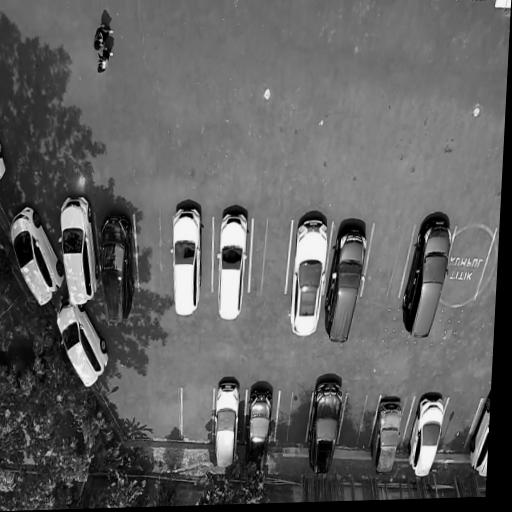Car: (393, 210, 460, 346), (1, 195, 67, 316), (50, 294, 115, 403), (322, 207, 371, 347), (285, 205, 333, 342), (56, 187, 102, 307), (212, 202, 255, 324), (94, 217, 138, 330), (166, 202, 208, 320), (403, 392, 449, 480), (306, 379, 347, 476), (210, 373, 244, 479), (243, 386, 276, 488), (366, 396, 408, 476), (464, 387, 491, 482), (460, 0, 495, 6), (418, 0, 455, 2)
Space Available: (440, 229, 498, 300), (361, 224, 415, 299), (133, 215, 173, 296), (249, 220, 291, 294), (437, 399, 482, 456), (338, 397, 382, 450), (274, 390, 312, 448), (182, 388, 213, 443), (477, 230, 497, 301)
